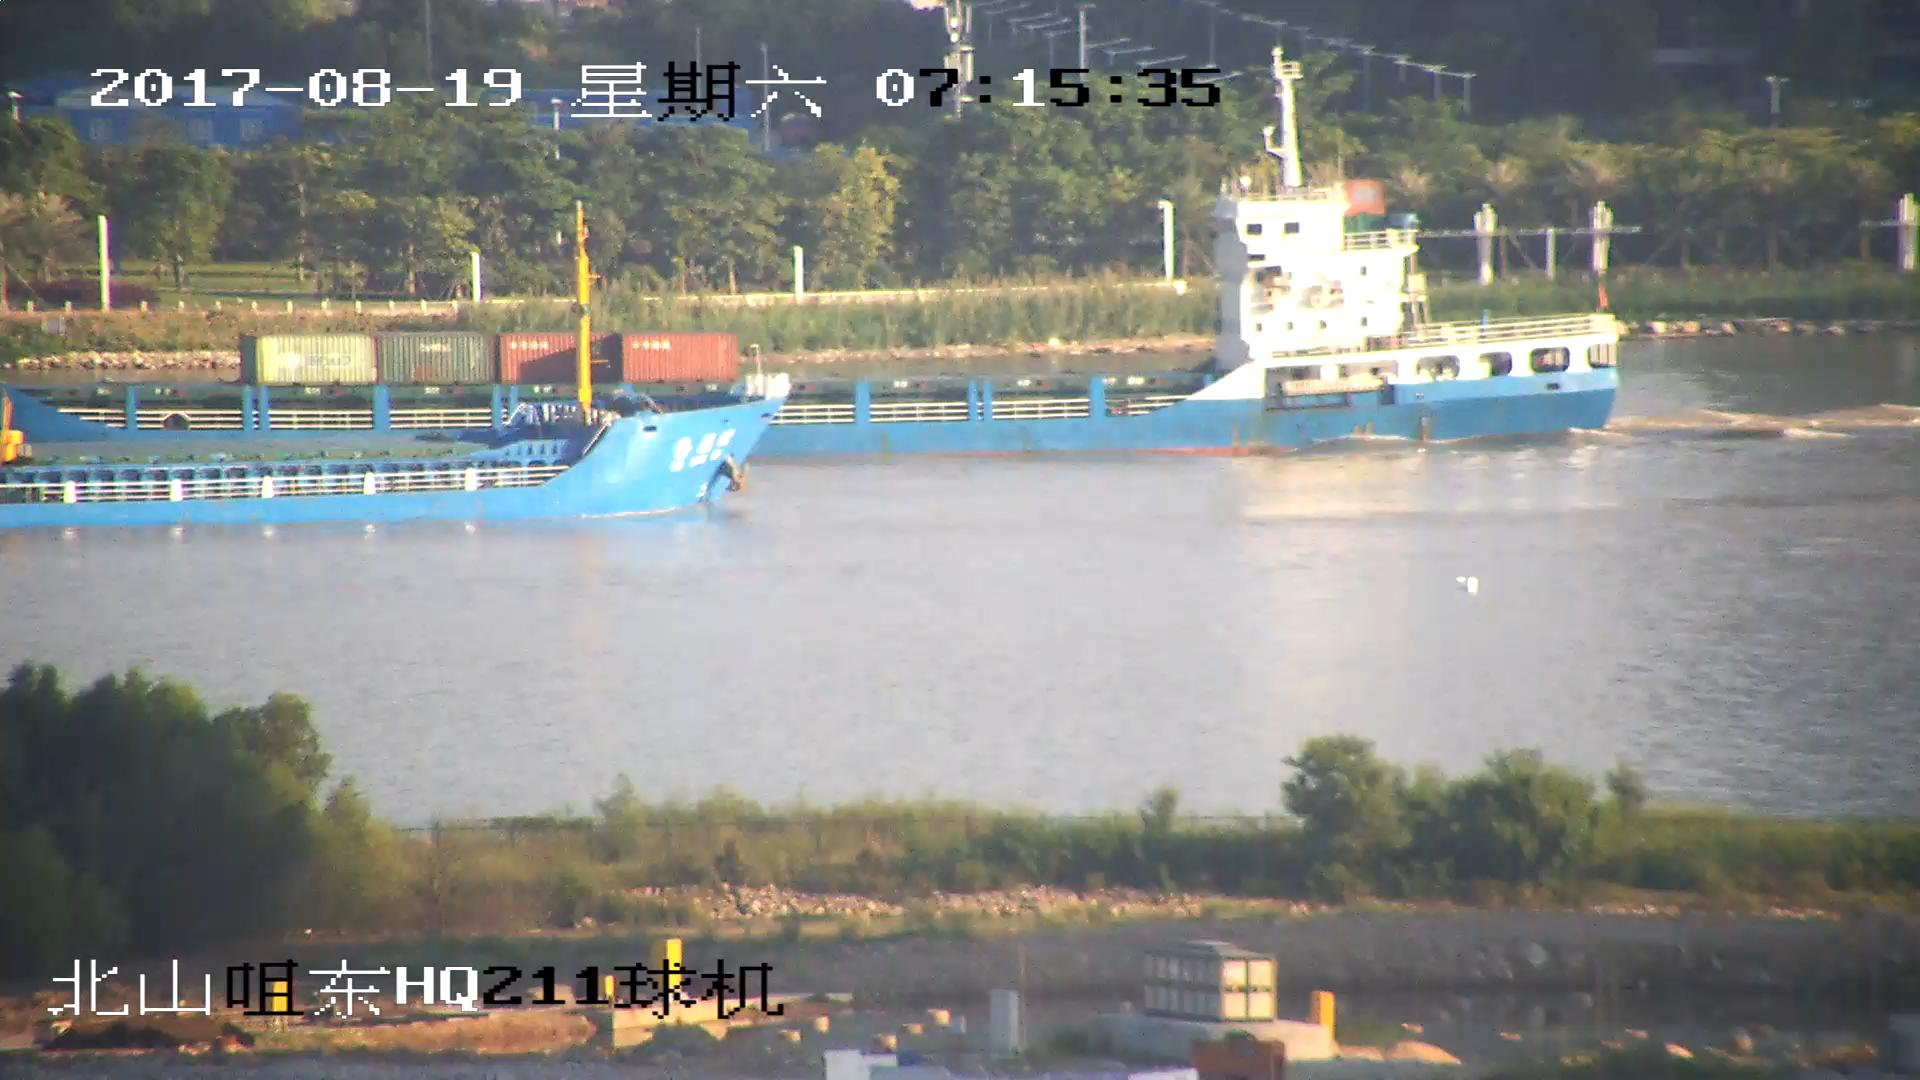general cargo ship: (1, 93, 1625, 452), (1, 201, 788, 523)
